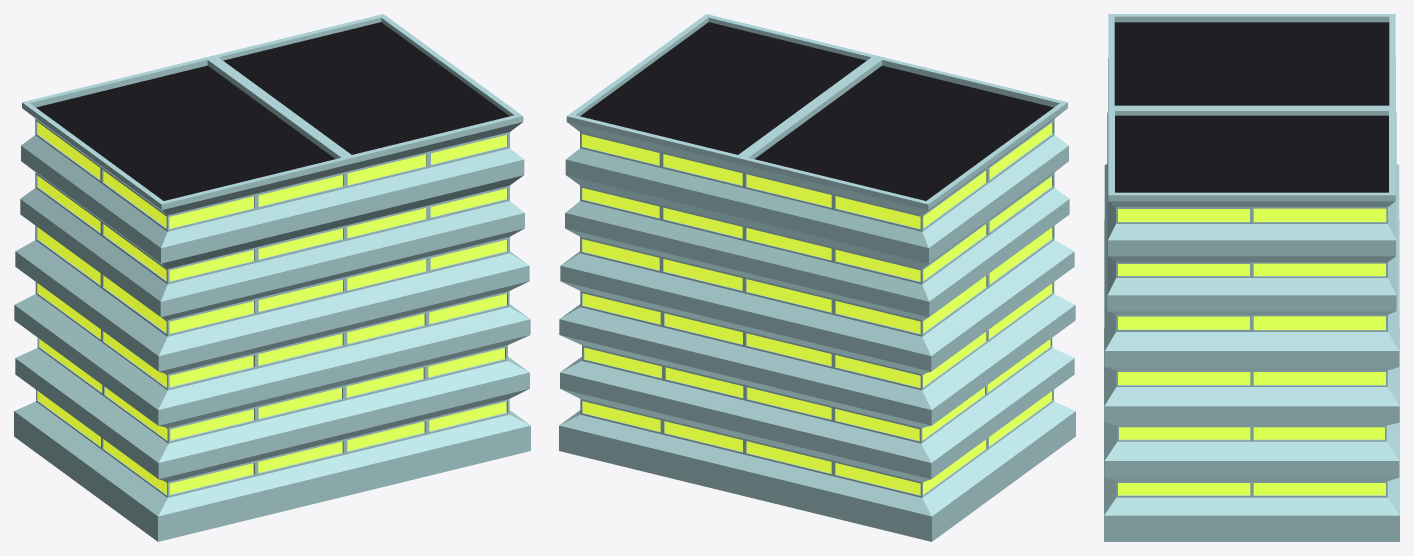
The model's file is BLUEPOO.fbx.
3 renders of one model, left to right at view 1: azimuth 30°, elevation 25°; view 2: azimuth 150°, elevation 25°; view 3: azimuth 270°, elevation 25°, orthographic. The views are drawn at different scales.
Visible parts, largest first — view 1: building 1.001; view 2: building 1.001; view 3: building 1.001.
Part boxes in pixels (bbox=[...]): building 1.001: bbox=[14, 14, 530, 541]; building 1.001: bbox=[559, 14, 1075, 541]; building 1.001: bbox=[1104, 14, 1399, 541].
Bounding box in the file's own units: 731 × 627 × 489.
